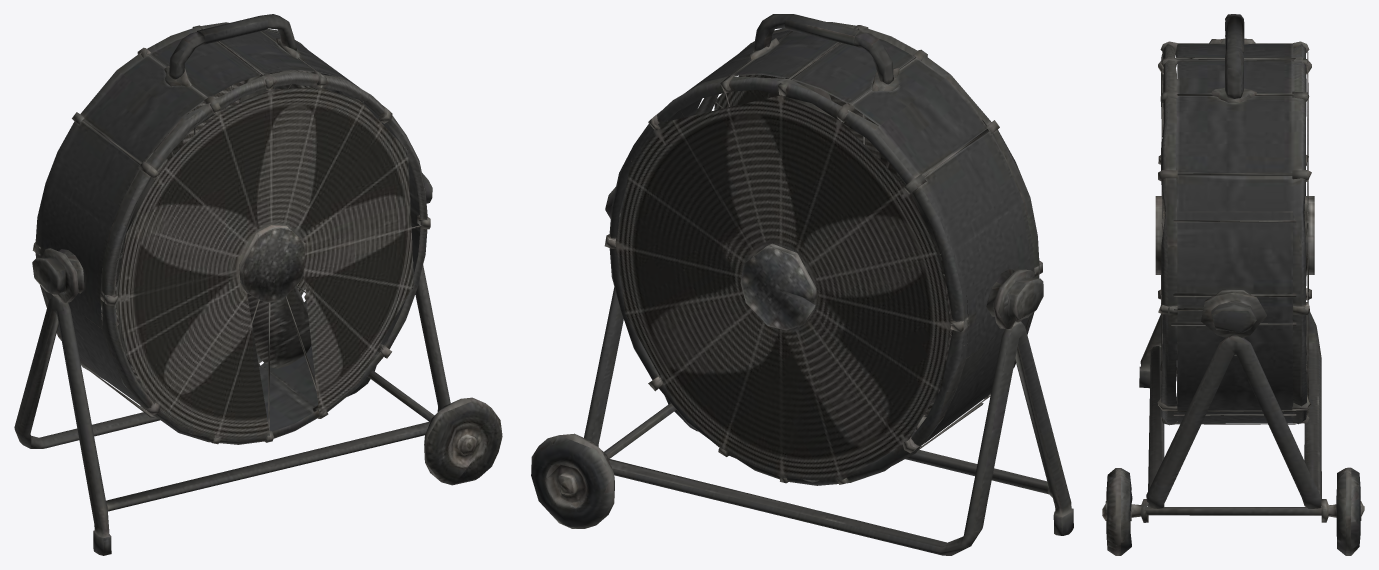
Rendered from p7-drum-fan-t25.glb.
The picture shows the model from 3 angles, left to right: view 1: azimuth 30°, elevation 25°; view 2: azimuth 150°, elevation 25°; view 3: azimuth 270°, elevation 25°; orthographic projection. The views are drawn at different scales.
Visible parts, largest first — view 1: p7-drum-fan-t25; view 2: p7-drum-fan-t25; view 3: p7-drum-fan-t25.
Boxes of the visible parts, x1=… form: p7-drum-fan-t25: x1=14, y1=14, x2=502, y2=555; p7-drum-fan-t25: x1=531, y1=14, x2=1073, y2=555; p7-drum-fan-t25: x1=1102, y1=14, x2=1364, y2=555.
Bounding box in the file's own units: 0.95 × 1.05 × 0.564.
1 material, 1 textured.
